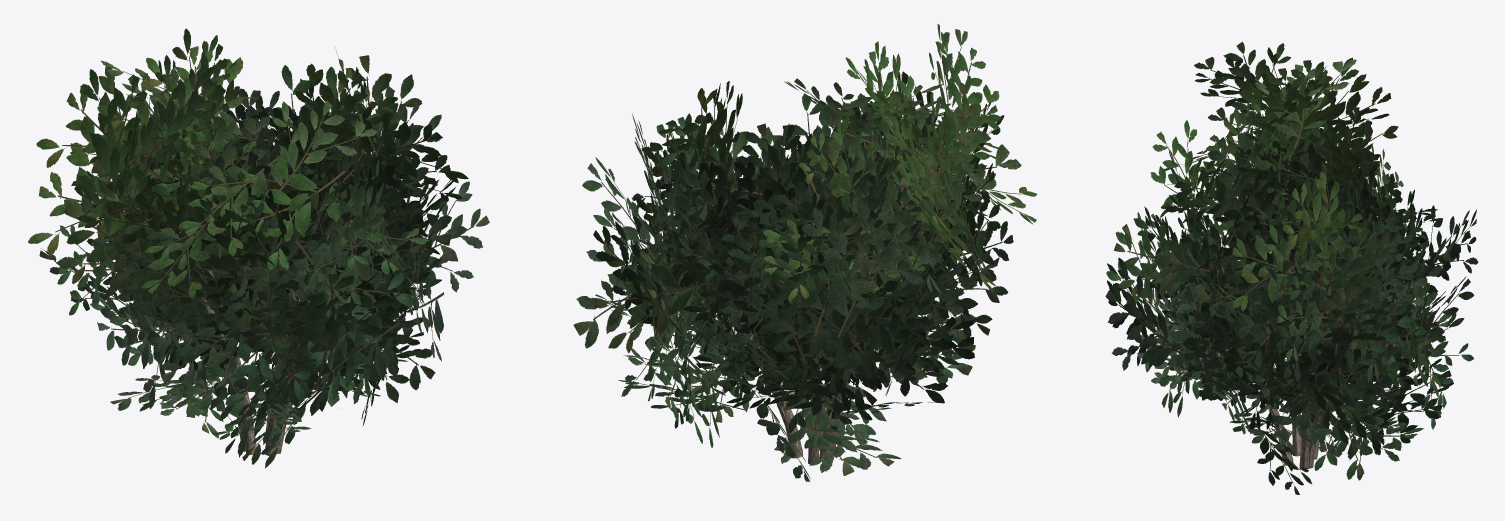
The model's file is arbusto_100.glb.
The picture shows the model from 3 angles, left to right: view 1: azimuth 30°, elevation 25°; view 2: azimuth 150°, elevation 25°; view 3: azimuth 270°, elevation 25°; orthographic projection. The views are drawn at different scales.
Visible parts, largest first — view 1: arbusto_100; view 2: arbusto_100; view 3: arbusto_100.
Part boxes in pixels (x1,y1,x2,y2): arbusto_100: (28, 28, 489, 468); arbusto_100: (573, 24, 1037, 481); arbusto_100: (1105, 42, 1478, 494).
Size of the model in its own units: 1 by 1 by 0.9.
Materials: 2 (2 with a texture image).
